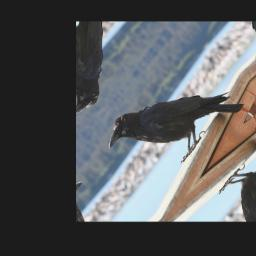Crow: (99, 45, 246, 199)
